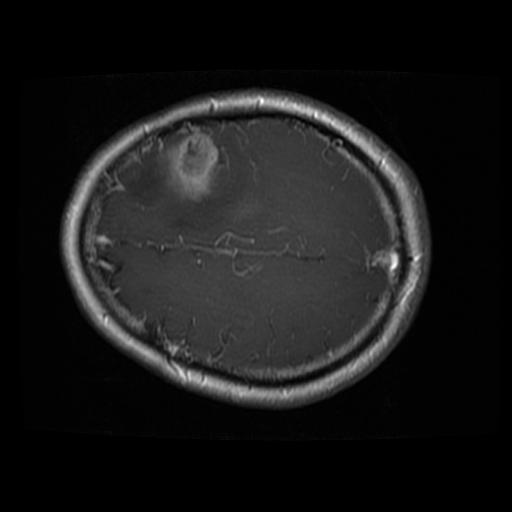glioma: (156, 127, 224, 209)
